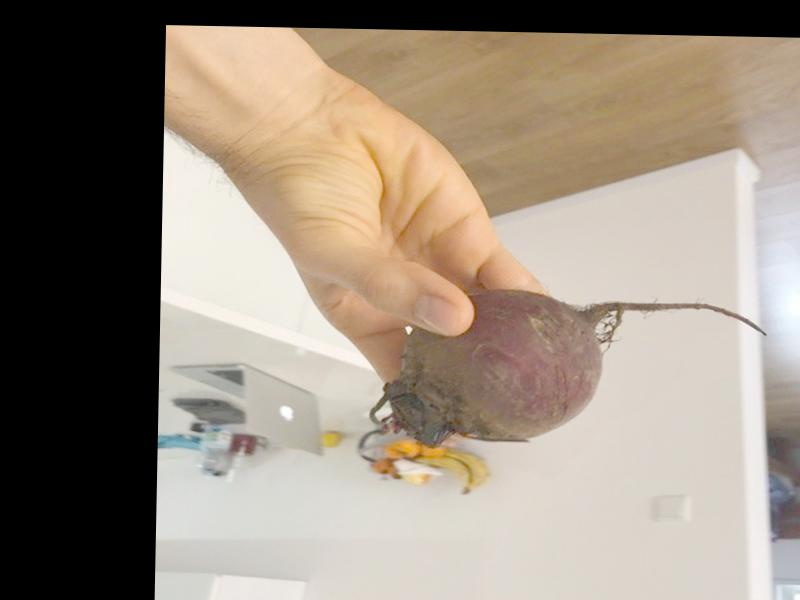Beet: (370, 288, 768, 451)
